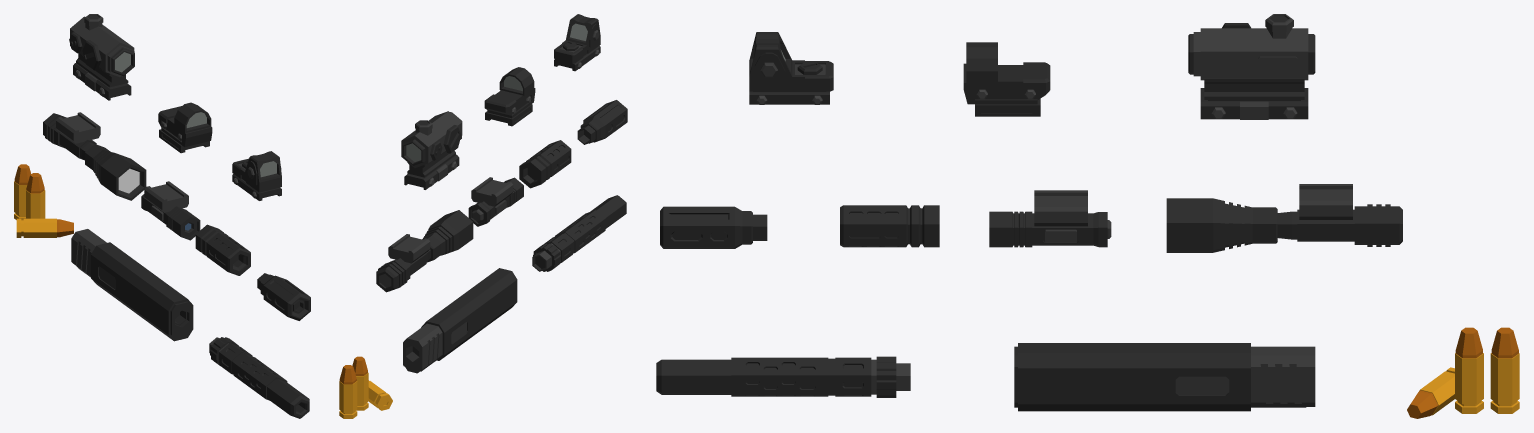
File: attach_pistol.glb
3 views of the same model, side by side, from view 1: azimuth 30°, elevation 25°; view 2: azimuth 150°, elevation 25°; view 3: azimuth 270°, elevation 25° (orthographic). The views are drawn at different scales.
Parts seen in each view (by area): view 1: Muzzle_Pistol_Suppressor_B, Light_Pistol_A, Optic_Pistol_B, Muzzle_Pistol_Suppressor_A, Optic_Pistol_C, Laser_Pistol_A, Optic_Pistol_A, Muzzle_Pistol_Brake_A, Muzzle_Pistol_Flash Hider_A, Bullet_Pistol.003, Bullet_Pistol.002, Bullet_Pistol (+1 smaller); view 2: Muzzle_Pistol_Suppressor_B, Light_Pistol_A, Optic_Pistol_B, Muzzle_Pistol_Suppressor_A, Optic_Pistol_C, Optic_Pistol_A, Laser_Pistol_A, Muzzle_Pistol_Brake_A, Muzzle_Pistol_Flash Hider_A, Bullet_Pistol, Bullet_Pistol.003, Bullet_Pistol.002 (+1 smaller); view 3: Muzzle_Pistol_Suppressor_B, Optic_Pistol_B, Light_Pistol_A, Muzzle_Pistol_Suppressor_A, Laser_Pistol_A, Optic_Pistol_C, Optic_Pistol_A, Muzzle_Pistol_Flash Hider_A, Muzzle_Pistol_Brake_A, Bullet_Pistol, Bullet_Pistol.002, Bullet_Pistol.003.
Boxes of the visible parts, x1,y1,x2,y2 form: Muzzle_Pistol_Suppressor_B: [71, 229, 193, 341]; Light_Pistol_A: [43, 112, 146, 200]; Optic_Pistol_B: [69, 14, 134, 100]; Muzzle_Pistol_Suppressor_A: [209, 337, 309, 418]; Optic_Pistol_C: [158, 102, 212, 153]; Laser_Pistol_A: [141, 181, 200, 240]; Optic_Pistol_A: [232, 151, 281, 200]; Muzzle_Pistol_Brake_A: [195, 224, 250, 275]; Muzzle_Pistol_Flash Hider_A: [257, 273, 310, 320]; Bullet_Pistol.003: [16, 218, 56, 237]; Bullet_Pistol.002: [26, 190, 45, 218]; Bullet_Pistol: [14, 181, 27, 220]; Muzzle_Pistol_Suppressor_B: [403, 268, 517, 373]; Light_Pistol_A: [376, 210, 473, 292]; Optic_Pistol_B: [401, 111, 462, 189]; Muzzle_Pistol_Suppressor_A: [532, 195, 626, 271]; Optic_Pistol_C: [484, 67, 535, 126]; Optic_Pistol_A: [554, 14, 600, 71]; Laser_Pistol_A: [468, 177, 523, 226]; Muzzle_Pistol_Brake_A: [519, 140, 571, 188]; Muzzle_Pistol_Flash Hider_A: [577, 100, 627, 144]; Bullet_Pistol: [339, 381, 357, 418]; Bullet_Pistol.003: [368, 381, 392, 410]; Bullet_Pistol.002: [356, 372, 368, 410]; Muzzle_Pistol_Suppressor_B: [1014, 343, 1315, 411]; Optic_Pistol_B: [1188, 14, 1315, 119]; Light_Pistol_A: [1166, 184, 1402, 252]; Muzzle_Pistol_Suppressor_A: [656, 356, 910, 397]; Laser_Pistol_A: [989, 190, 1111, 247]; Optic_Pistol_C: [963, 42, 1050, 116]; Optic_Pistol_A: [749, 32, 833, 104]; Muzzle_Pistol_Flash Hider_A: [660, 206, 767, 248]; Muzzle_Pistol_Brake_A: [840, 205, 939, 247]; Bullet_Pistol: [1490, 353, 1519, 413]; Bullet_Pistol.002: [1455, 353, 1483, 413]; Bullet_Pistol.003: [1419, 367, 1454, 415].
Size of the model in its own units: 0.2396 by 1.19 by 2.41.
1 material, 1 textured.
